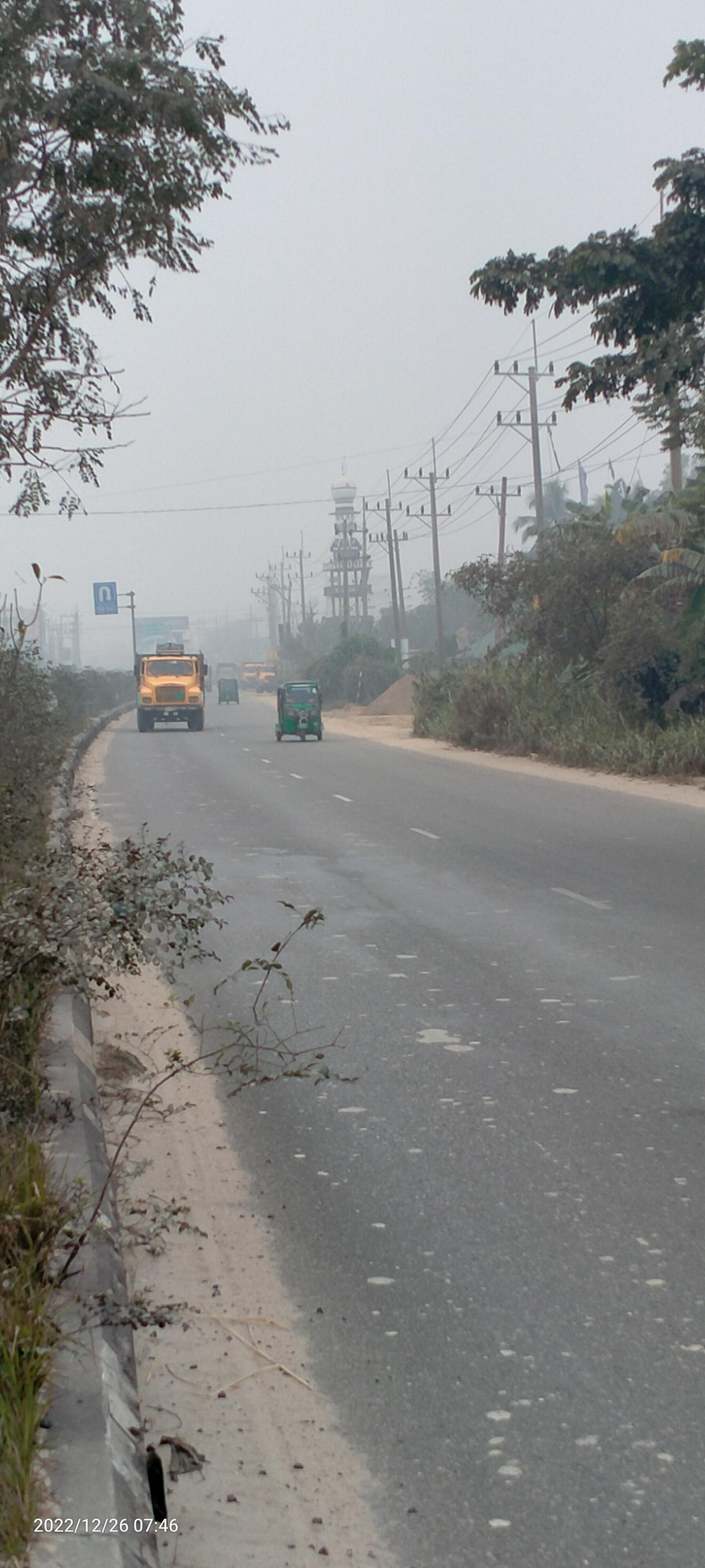Truck: (127, 641, 209, 739)
